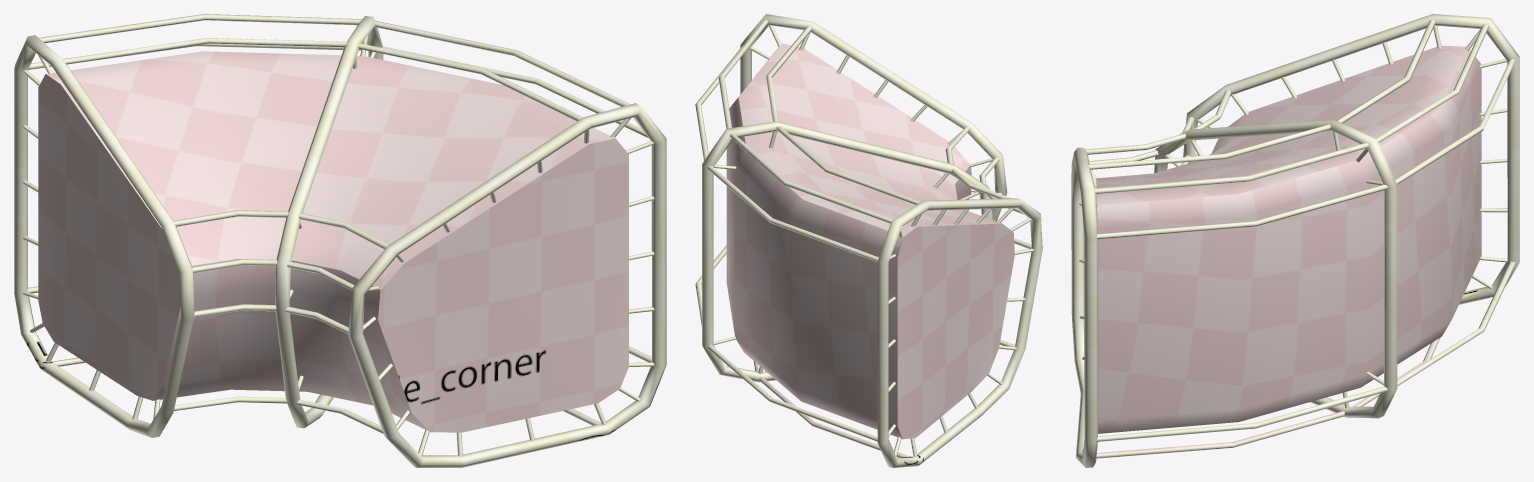
File: console_corner.fbx
3 views of the same model, side by side, from view 1: azimuth 30°, elevation 25°; view 2: azimuth 150°, elevation 25°; view 3: azimuth 270°, elevation 25° (orthographic). The views are drawn at different scales.
Parts seen in each view (by area): view 1: console_corner; view 2: console_corner; view 3: console_corner.
Part boxes in pixels (x1=…): console_corner: x1=14, y1=14, x2=666, y2=467; console_corner: x1=695, y1=14, x2=1042, y2=467; console_corner: x1=1071, y1=14, x2=1519, y2=467.
Bounding box in the file's own units: 199 × 142 × 199.
